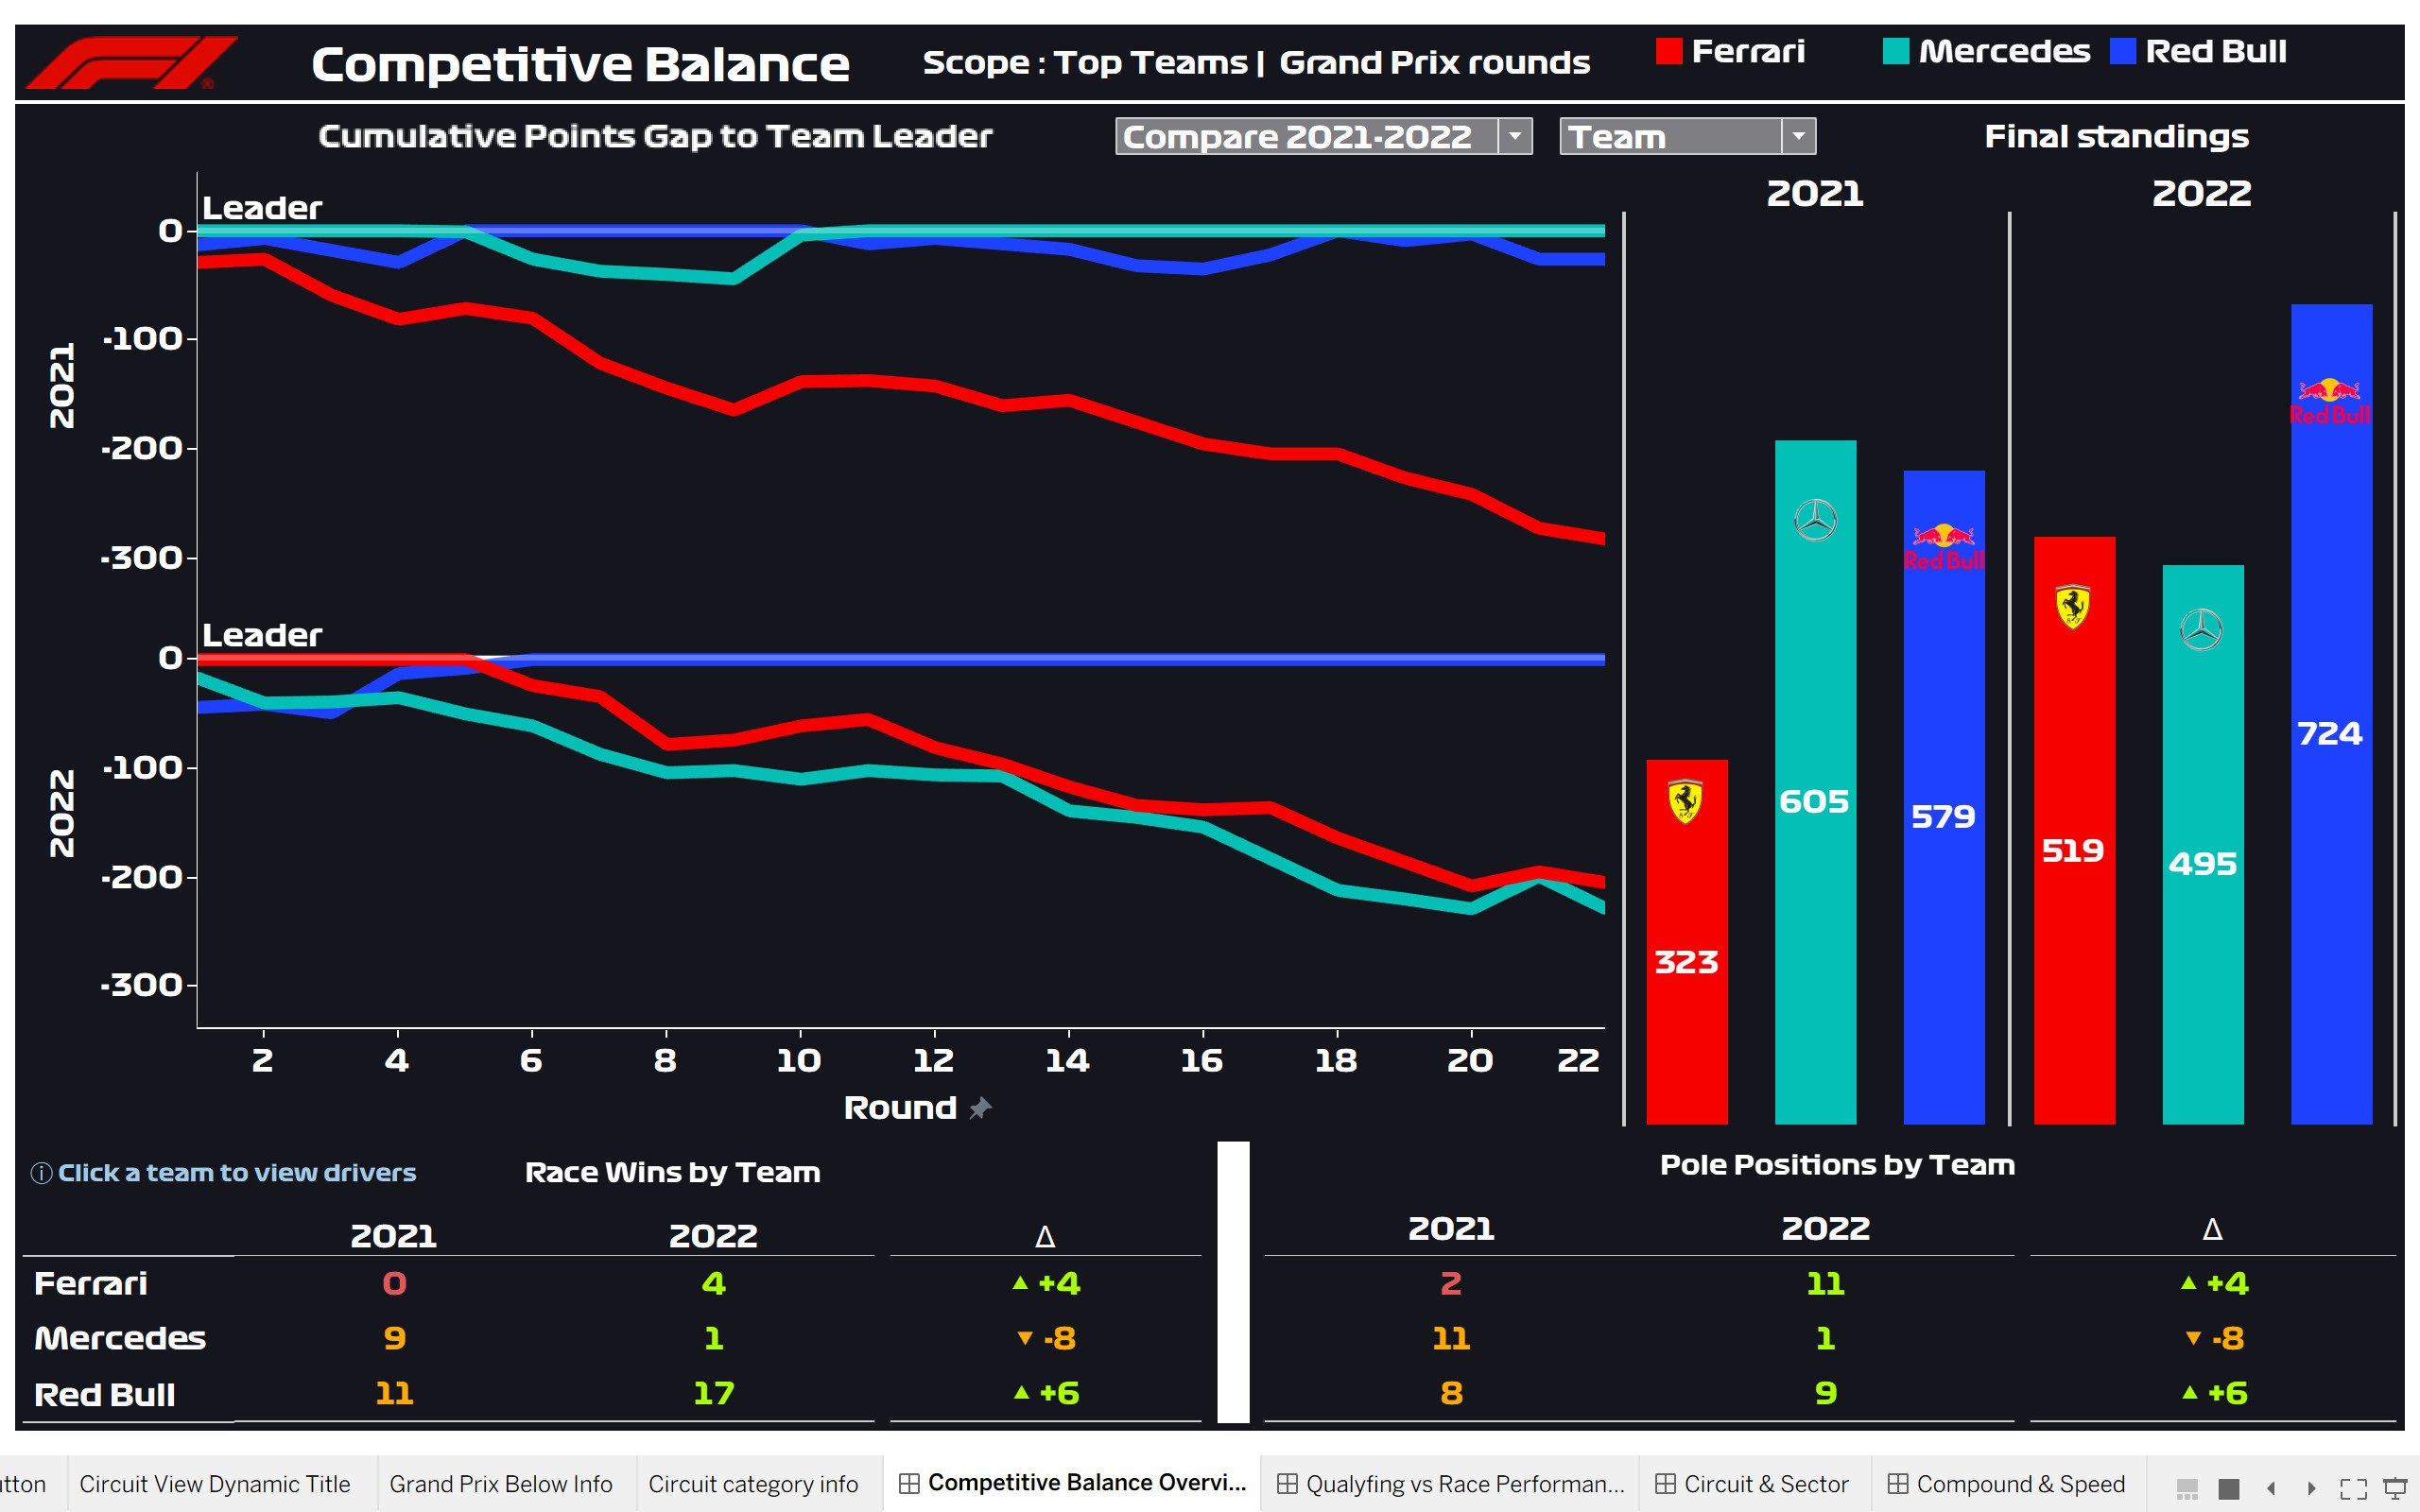

What the dashboard file says about the page in this screenshot:
{"tool":"tableau","page":{"name":"Competitive Balance Overview","canvas":[1280,760],"ordinal":1},"visuals":[{"type":"image","param":"Image/f1_logo.png","box":[8,8,122,40]},{"type":"text","box":[130,8,355.5,40]},{"type":"text","box":[485.5,8,383.5,40]},{"type":"legend","title":"Cumulative Points Gap to Team Leader","param":"[federated.0cgmptb12yswpe1aakzxp0ybaw1q].[none:team_name:nk]","box":[869,8,403,40]},{"type":"legend","title":"Cumulative Points Gap to Driver Leader","param":"[federated.0cgmptb12yswpe1aakzxp0ybaw1q].[none:abbreviation:nk]","box":[869,8,403,40]},{"type":"blank","box":[8,52,152,30]},{"type":"worksheet","title":"Cumulative Gap Label","mark":"Automatic","box":[160,52,423,30]},{"type":"parameter","param":"[Parameters].[Parameter 4]","box":[583,52,235,30]},{"type":"parameter","param":"[Parameters].[Parameter 0653406781276160]","box":[818,52,150,30]},{"type":"text","box":[968,52,304,30]},{"type":"worksheet","title":"Cumulative Points Gap to Team Leader","mark":"Line","rows":["season_year"],"cols":["round_number"],"box":[8,82,845,513]},{"type":"worksheet","title":"Cumulative Points Gap to Driver Leader","mark":"Line","rows":["season_year"],"cols":["round_number"],"box":[8,82,845,513]},{"type":"worksheet","title":"Driver Points","mark":"Bar","rows":["Calculation_0401051634073603"],"cols":["season_year","team_name"],"box":[853,82,419,513]},{"type":"worksheet","title":"Team Points","mark":"Bar","rows":["Calculation_0401051634073603","Calculation_0653406790344707"],"cols":["season_year","team_name"],"box":[853,82,419,513]},{"type":"worksheet","title":"Back to Team View","mark":"Automatic","box":[8,595,230,40]},{"type":"text","box":[8,595,261,40]},{"type":"text","box":[8,595,297,32]},{"type":"worksheet","title":"Back to Team Outcome Matrix","mark":"Automatic","box":[8,595,332,32]},{"type":"worksheet","title":"Race Wins Title","mark":"Automatic","box":[269,595,371,40]},{"type":"worksheet","title":"Race Outcome Dynamic Title","mark":"Automatic","box":[305,595,484,32]},{"type":"blank","box":[640,595,25,157]},{"type":"worksheet","title":"Pole Positions Title","mark":"Automatic","box":[665,595,607,32]},{"type":"blank","box":[789,595,260,32]},{"type":"blank","box":[1070,595,170,32]},{"type":"text","box":[1070,595,202,32]},{"type":"worksheet","title":"Grand Prix Race Outcome Matrix","mark":"Square","rows":["team_name"],"cols":["round_number"],"box":[8,627,1078.8,125]},{"type":"worksheet","title":"Grand Prix Driver Outcome Matrix","mark":"Square","rows":["abbreviation"],"cols":["round_number"],"box":[8,627,1083,125]},{"type":"worksheet","title":"Pole Positions Team","mark":"Automatic","rows":["team_name"],"cols":["season_year"],"box":[665,627,404.7,125]},{"type":"worksheet","title":"Pole Positions Driver","mark":"Automatic","rows":["abbreviation"],"cols":["season_year"],"box":[665,627,404.7,125]},{"type":"worksheet","title":"Pole Positions Team Delta","mark":"Automatic","rows":["team_name"],"cols":["Calculation_2062153321328643"],"box":[1069.7,627,202.3,125]},{"type":"worksheet","title":"Pole Positions Driver Delta","mark":"Automatic","rows":["abbreviation"],"cols":["Calculation_2062153321328643"],"box":[1069.7,627,202.3,125]},{"type":"legend","title":"Grand Prix Race Outcome Matrix","param":"[federated.0cgmptb12yswpe1aakzxp0ybaw1q].[usr:Calculation_1704253078229019:nk]","box":[1086.8,627,185,125]},{"type":"legend","title":"Grand Prix Driver Outcome Matrix","param":"[federated.0cgmptb12yswpe1aakzxp0ybaw1q].[usr:Calculation_1233949996888065:nk]","box":[1091,627,168,125]},{"type":"worksheet","title":"Race Wins Team","mark":"Text","rows":["team_name"],"cols":["season_year"],"box":[8,635,458.6,117]},{"type":"worksheet","title":"Race Wins Driver","mark":"Text","rows":["abbreviation"],"cols":["season_year"],"box":[8,635,448,117]},{"type":"worksheet","title":"Race Wins Driver Delta","mark":"Text","rows":["abbreviation"],"cols":["Calculation_2062153321328643"],"box":[456,635,184,117]},{"type":"worksheet","title":"Race Wins Team Delta","mark":"Text","rows":["team_name"],"cols":["Calculation_2062153321328643"],"box":[466.6,635,173.3,117]}]}

Visuals, with their boxes on the page's 1280x760 design canvas (x1, y1, x2, y2). These are canvas units, not pixel positions in the 2420x1512 screenshot, which may show the page scaled, cropped or inside an application window:
image: (left=8, top=8, right=130, bottom=48)
text: (left=130, top=8, right=486, bottom=48)
text: (left=486, top=8, right=869, bottom=48)
"Cumulative Points Gap to Team Leader" legend: (left=869, top=8, right=1272, bottom=48)
"Cumulative Points Gap to Driver Leader" legend: (left=869, top=8, right=1272, bottom=48)
blank: (left=8, top=52, right=160, bottom=82)
"Cumulative Gap Label" worksheet: (left=160, top=52, right=583, bottom=82)
parameter: (left=583, top=52, right=818, bottom=82)
parameter: (left=818, top=52, right=968, bottom=82)
text: (left=968, top=52, right=1272, bottom=82)
"Cumulative Points Gap to Team Leader" worksheet (Line marks): (left=8, top=82, right=853, bottom=595)
"Cumulative Points Gap to Driver Leader" worksheet (Line marks): (left=8, top=82, right=853, bottom=595)
"Driver Points" worksheet (Bar marks): (left=853, top=82, right=1272, bottom=595)
"Team Points" worksheet (Bar marks): (left=853, top=82, right=1272, bottom=595)
"Back to Team View" worksheet: (left=8, top=595, right=238, bottom=635)
text: (left=8, top=595, right=269, bottom=635)
text: (left=8, top=595, right=305, bottom=627)
"Back to Team Outcome Matrix" worksheet: (left=8, top=595, right=340, bottom=627)
"Race Wins Title" worksheet: (left=269, top=595, right=640, bottom=635)
"Race Outcome Dynamic Title" worksheet: (left=305, top=595, right=789, bottom=627)
blank: (left=640, top=595, right=665, bottom=752)
"Pole Positions Title" worksheet: (left=665, top=595, right=1272, bottom=627)
blank: (left=789, top=595, right=1049, bottom=627)
blank: (left=1070, top=595, right=1240, bottom=627)
text: (left=1070, top=595, right=1272, bottom=627)
"Grand Prix Race Outcome Matrix" worksheet (Square marks): (left=8, top=627, right=1087, bottom=752)
"Grand Prix Driver Outcome Matrix" worksheet (Square marks): (left=8, top=627, right=1091, bottom=752)
"Pole Positions Team" worksheet: (left=665, top=627, right=1070, bottom=752)
"Pole Positions Driver" worksheet: (left=665, top=627, right=1070, bottom=752)
"Pole Positions Team Delta" worksheet: (left=1070, top=627, right=1272, bottom=752)
"Pole Positions Driver Delta" worksheet: (left=1070, top=627, right=1272, bottom=752)
"Grand Prix Race Outcome Matrix" legend: (left=1087, top=627, right=1272, bottom=752)
"Grand Prix Driver Outcome Matrix" legend: (left=1091, top=627, right=1259, bottom=752)
"Race Wins Team" worksheet (Text marks): (left=8, top=635, right=467, bottom=752)
"Race Wins Driver" worksheet (Text marks): (left=8, top=635, right=456, bottom=752)
"Race Wins Driver Delta" worksheet (Text marks): (left=456, top=635, right=640, bottom=752)
"Race Wins Team Delta" worksheet (Text marks): (left=467, top=635, right=640, bottom=752)
